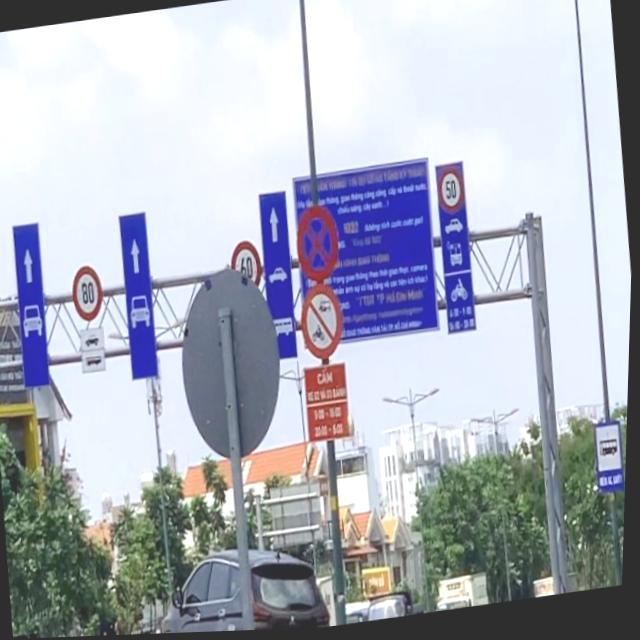Cam dung xe va do xe: (290, 200, 346, 290)
Toc do toi da cho phep: (70, 260, 109, 324)
